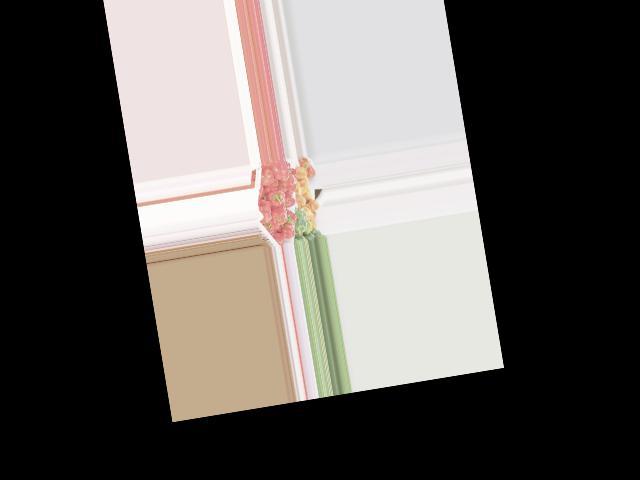bell_pepper: (255, 197, 273, 224)
